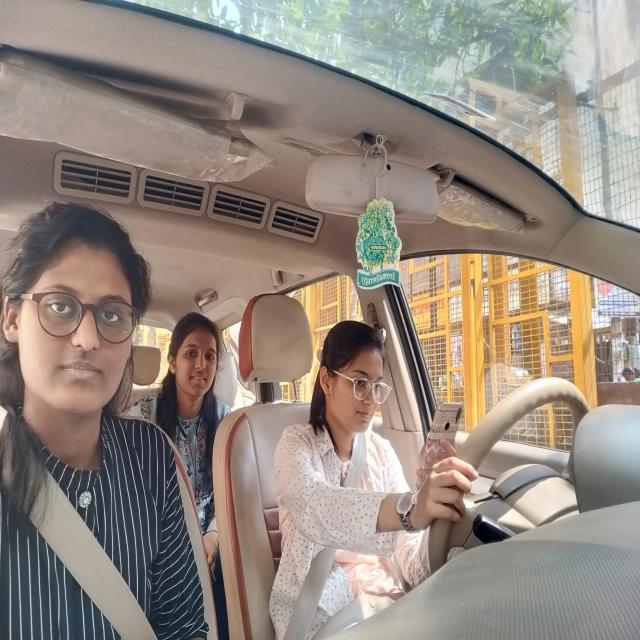mobile: (424, 399, 462, 460)
person: (12, 220, 142, 417), (319, 327, 386, 442), (175, 312, 220, 401)
